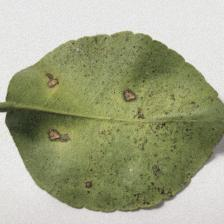canker: (40, 59, 180, 205)
